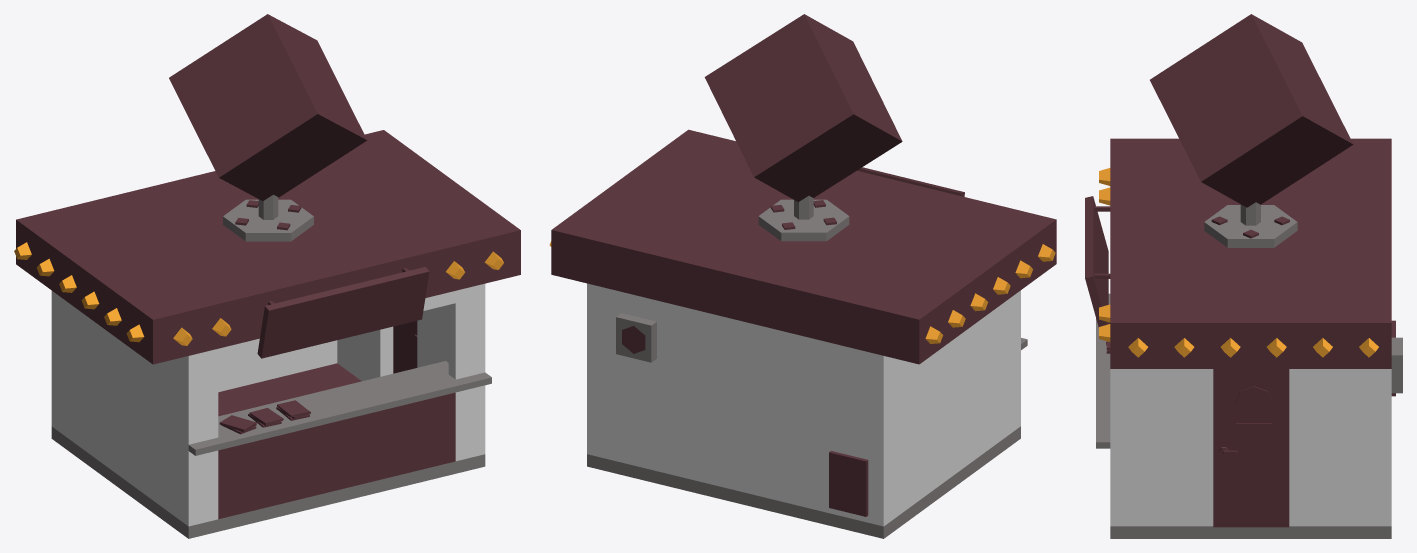
Rendered from information-stall.fbx.
The picture shows the model from 3 angles, left to right: view 1: azimuth 30°, elevation 25°; view 2: azimuth 150°, elevation 25°; view 3: azimuth 270°, elevation 25°; orthographic projection. The views are drawn at different scales.
Parts seen in each view (by area): view 1: information-stall; view 2: information-stall; view 3: information-stall.
Boxes of the visible parts, left/top/right/bottom form: information-stall: left=14, top=14, right=520, bottom=538; information-stall: left=549, top=14, right=1056, bottom=538; information-stall: left=1085, top=14, right=1402, bottom=538.
Size of the model in its own units: 4.9 by 5.3 by 3.39.
